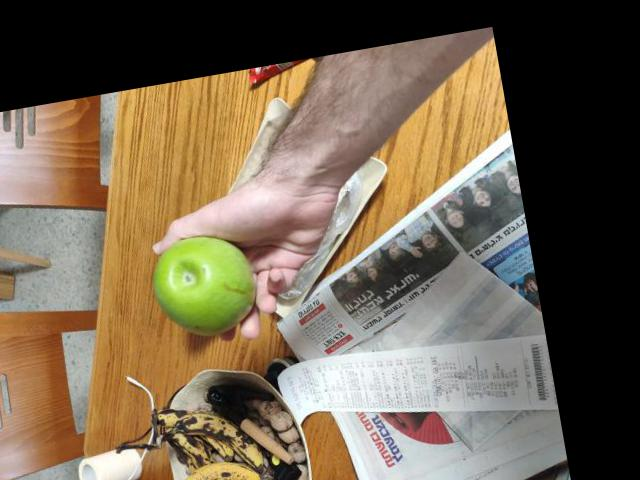apple: (145, 229, 262, 345)
